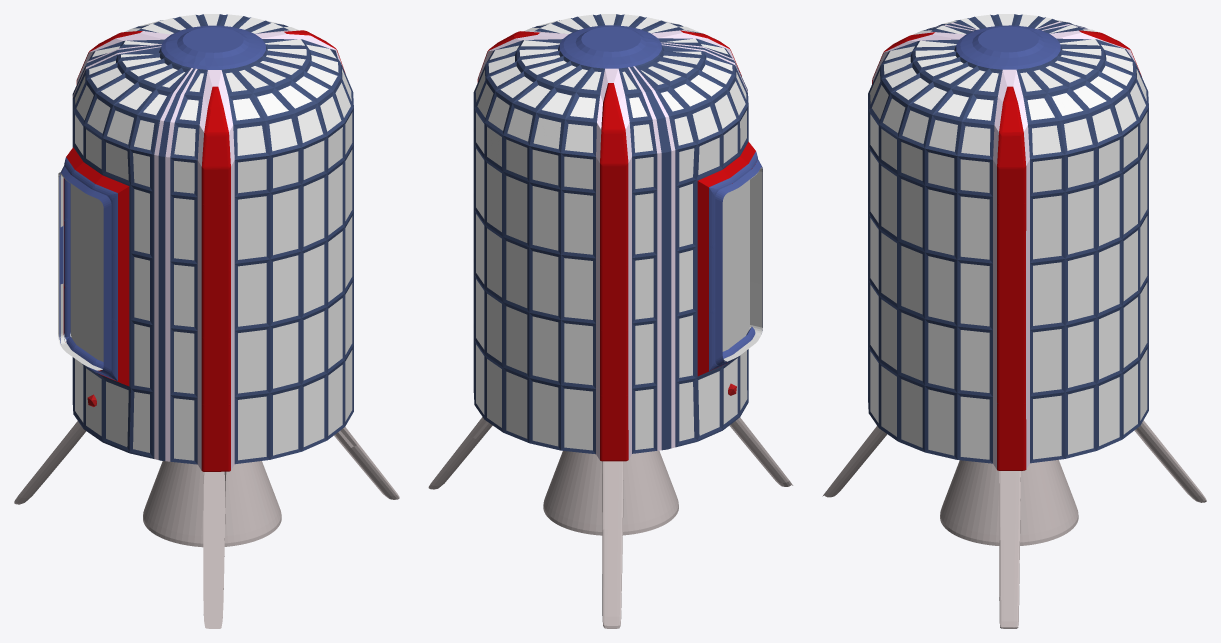
File: pod.glb
The picture shows the model from 3 angles, left to right: view 1: azimuth 30°, elevation 25°; view 2: azimuth 150°, elevation 25°; view 3: azimuth 270°, elevation 25°; orthographic projection. The views are drawn at different scales.
Visible parts, largest first — view 1: Ship, Ship.002, Door, Ship.001; view 2: Ship, Ship.002, Door, Ship.001; view 3: Ship, Ship.002, Ship.001.
Part boxes in pixels (<box>): Ship: <box>59,14,353,471</box>; Ship.002: <box>143,461,281,547</box>; Door: <box>58,172,103,370</box>; Ship.001: <box>14,421,399,628</box>; Ship: <box>473,14,762,461</box>; Ship.002: <box>543,450,678,535</box>; Door: <box>722,167,762,361</box>; Ship.001: <box>428,417,793,628</box>; Ship: <box>868,14,1148,470</box>; Ship.002: <box>940,460,1078,545</box>; Ship.001: <box>822,420,1206,628</box>.
Size of the model in its own units: 5.23 by 7.9 by 5.42.
